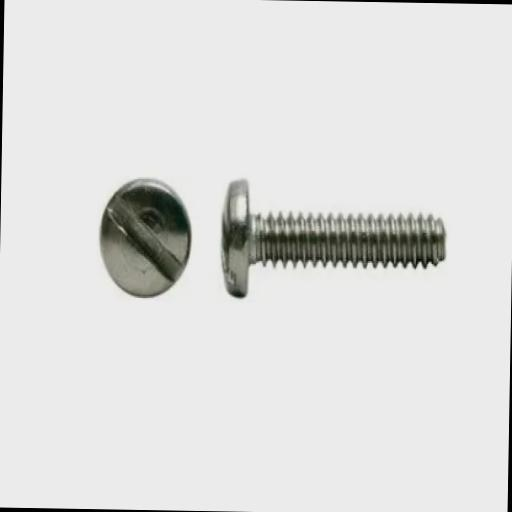Slotted: (99, 176, 194, 298)
